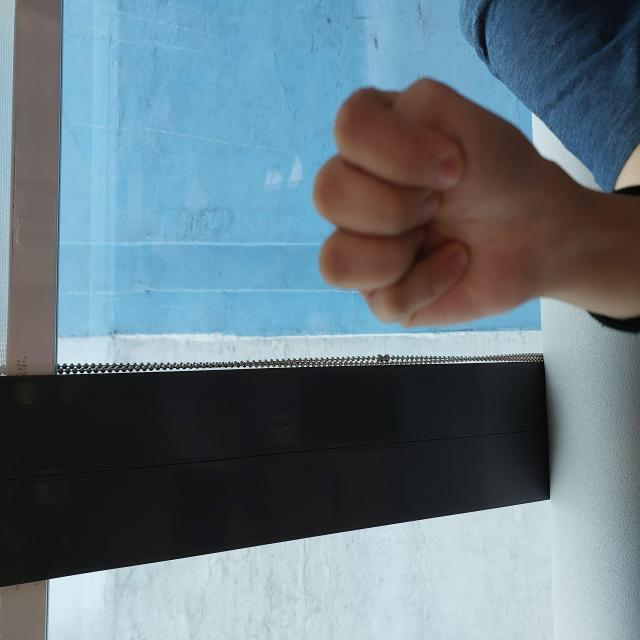M: (313, 312, 563, 529)
